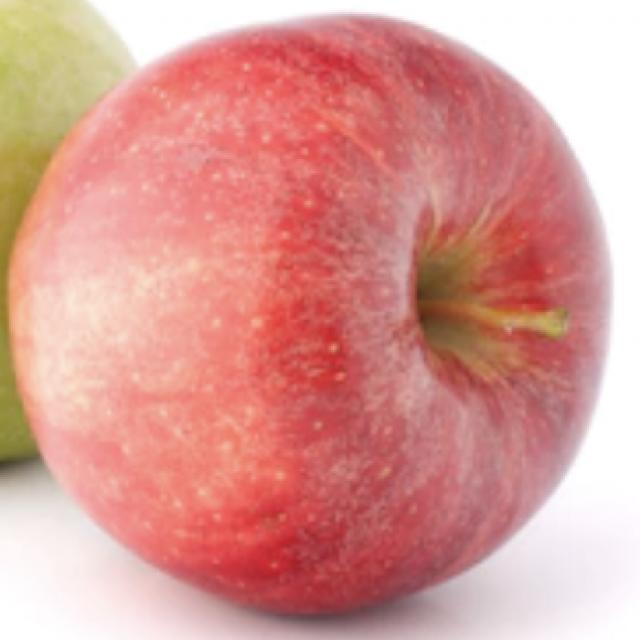Fresh Apple: (25, 26, 593, 602)
